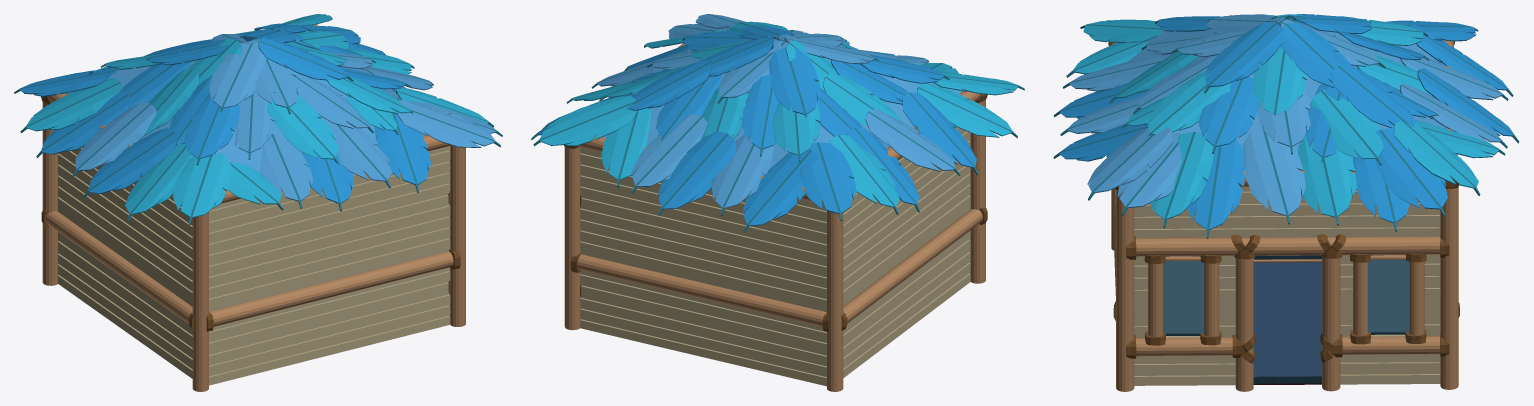
Rendered from Casa02.gltf.
The picture shows the model from 3 angles, left to right: view 1: azimuth 30°, elevation 25°; view 2: azimuth 150°, elevation 25°; view 3: azimuth 270°, elevation 25°; orthographic projection. The views are drawn at different scales.
Visible parts, largest first — view 1: Casa Praia 2.001; view 2: Casa Praia 2.001; view 3: Casa Praia 2.001.
Boxes of the visible parts, x1,y1,x2,y2 form: Casa Praia 2.001: (14, 14, 502, 391); Casa Praia 2.001: (531, 14, 1024, 391); Casa Praia 2.001: (1053, 14, 1519, 391).
Bounding box in the file's own units: 1.27 × 0.8707 × 1.25.
